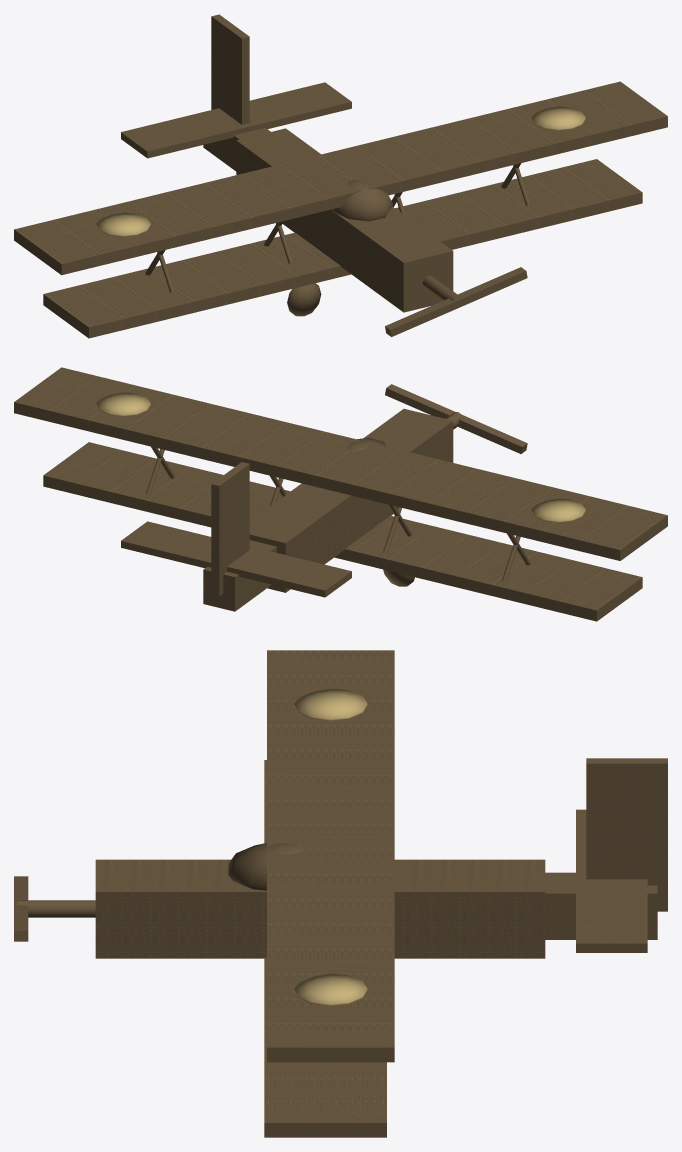
The model's file is biplane.glb.
The picture shows the model from 3 angles, top to bottom: view 1: azimuth 30°, elevation 25°; view 2: azimuth 150°, elevation 25°; view 3: azimuth 270°, elevation 25°; orthographic projection. The views are drawn at different scales.
Visible parts, largest first — view 1: LOD0; view 2: LOD0; view 3: LOD0.
Boxes of the visible parts, <box> form: LOD0: <box>14,14,667,338</box>; LOD0: <box>14,367,667,621</box>; LOD0: <box>14,650,667,1137</box>.
Bounding box in the file's own units: 9.2 × 2.75 × 6.4.
Materials: 2 (1 with a texture image).
